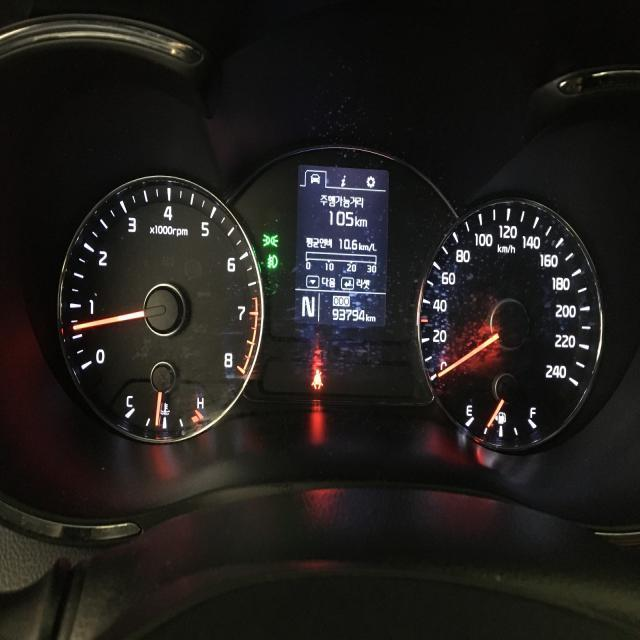FrontFogLight: (266, 252, 278, 269)
SideLamp: (261, 231, 279, 248)
